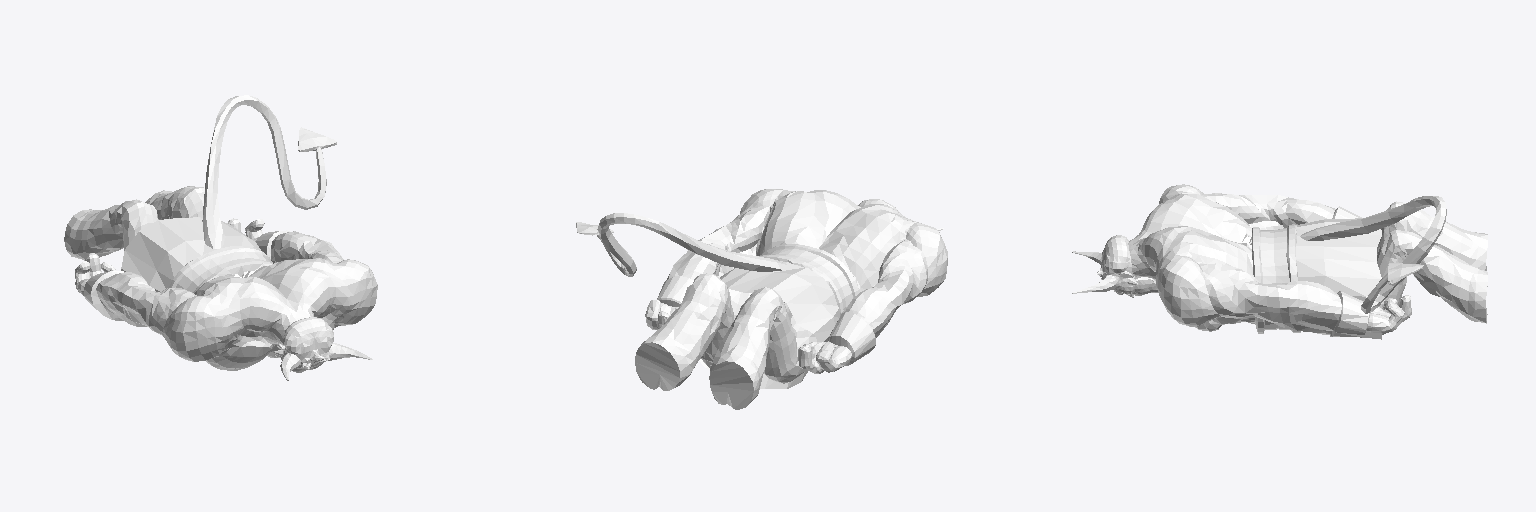
File: sundevil3.obj
3 renders of one model, left to right at view 1: azimuth 30°, elevation 25°; view 2: azimuth 150°, elevation 25°; view 3: azimuth 270°, elevation 25°, orthographic.
Visible parts, largest first — view 1: Object.1; view 2: Object.1; view 3: Object.1.
Boxes of the visible parts, box(x1,y1,x2,y2) form: Object.1: box(64, 95, 377, 380); Object.1: box(576, 189, 947, 409); Object.1: box(1072, 184, 1487, 339).
Bounding box in the file's own units: 388 × 234 × 512.